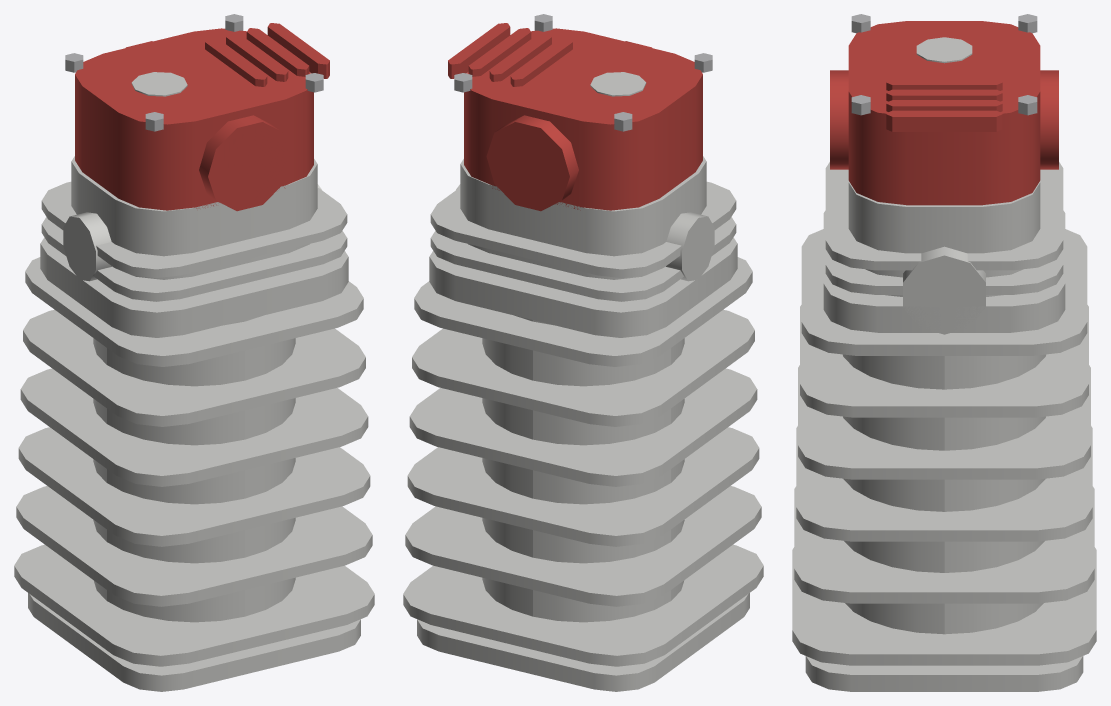
File: hot_cam_1_lod1.glb
3 views of the same model, side by side, from view 1: azimuth 30°, elevation 25°; view 2: azimuth 150°, elevation 25°; view 3: azimuth 270°, elevation 25° (orthographic). The views are drawn at different scales.
Visible parts, largest first — view 1: hot_cam_1_lod1; view 2: hot_cam_1_lod1; view 3: hot_cam_1_lod1.
Part boxes in pixels (x1,y1,x2,y2): hot_cam_1_lod1: [14, 14, 374, 691]; hot_cam_1_lod1: [403, 14, 763, 691]; hot_cam_1_lod1: [792, 14, 1096, 691].
Size of the model in its own units: 0.146 by 0.3043 by 0.146.
